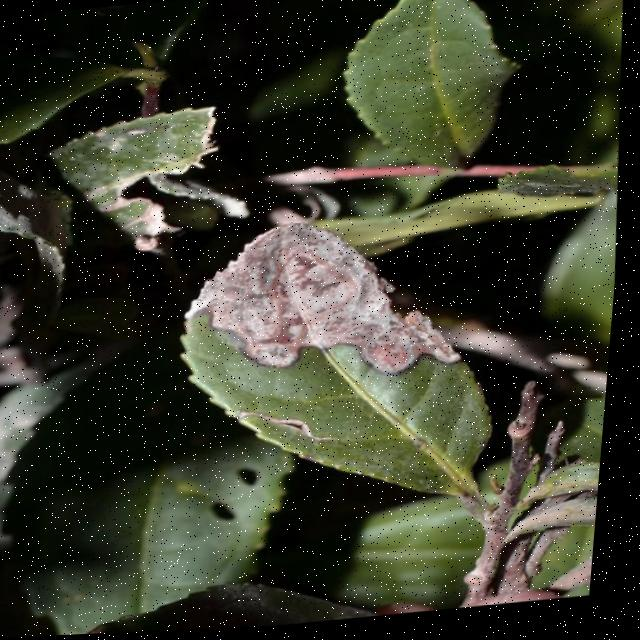Tea cloud leaf blight: (184, 207, 454, 387)
